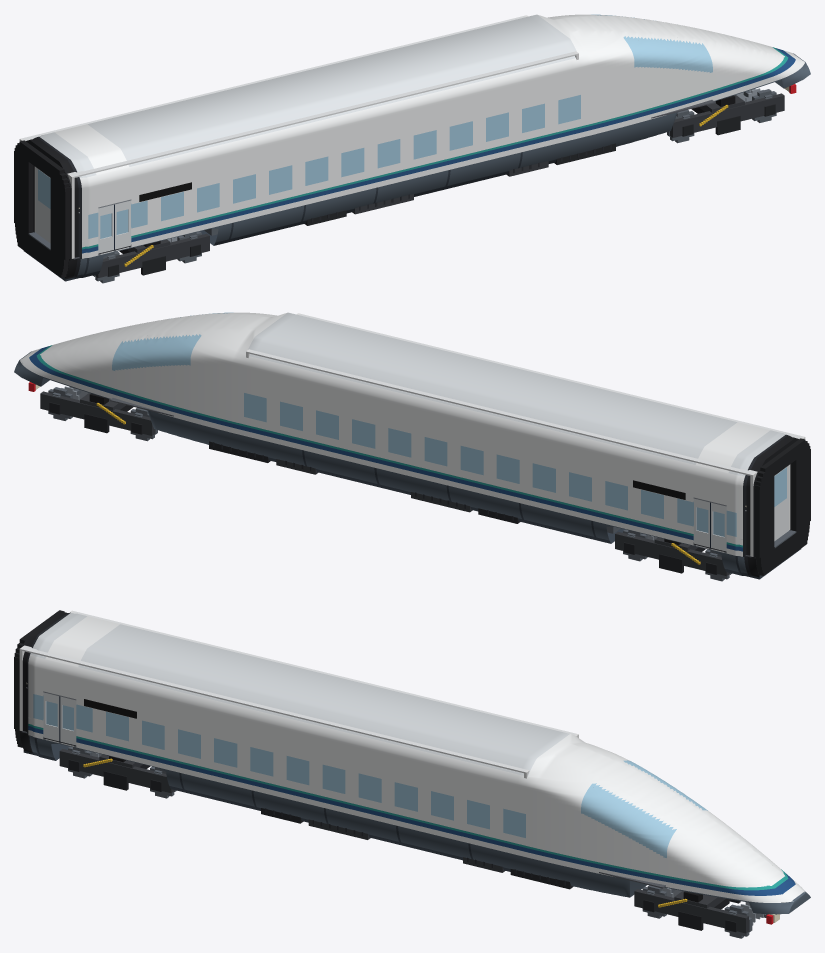
The model's file is ktx_sancheon_front.obj.
3 renders of one model, top to bottom at view 1: azimuth 30°, elevation 25°; view 2: azimuth 150°, elevation 25°; view 3: azimuth 330°, elevation 25°, orthographic.
Parts seen in each view (by area): view 1: SHELL, SHELL_diaphragm, SHELL_ceiling, BOGEY_FRONT, BOGEY_REAR, FRAME, CONNECTING_DOOR_1_CG_CR_TOGGLE_TL_0.98_Z, EXTERNAL_DOOR_3_CG_DR1_TOGGLE_TL_-0.44_X, EXTERNAL_DOOR_4_CG_DR1_TOGGLE_TL_0.44_X, SHELL_end; view 2: SHELL, SHELL_diaphragm, SHELL_ceiling, BOGEY_FRONT, BOGEY_REAR, FRAME, CONNECTING_DOOR_1_CG_CR_TOGGLE_TL_0.98_Z, EXTERNAL_DOOR_6_CG_DL1_TOGGLE_TL_-0.44_X, EXTERNAL_DOOR_7_CG_DL1_TOGGLE_TL_0.44_X, SHELL_end; view 3: SHELL, SHELL_ceiling, BOGEY_FRONT, BOGEY_REAR, FRAME, EXTERNAL_DOOR_3_CG_DR1_TOGGLE_TL_-0.44_X, EXTERNAL_DOOR_4_CG_DR1_TOGGLE_TL_0.44_X, SHELL_diaphragm.
Part boxes in pixels (box(x1,y1,x2,y2)): SHELL: box(23, 14, 810, 281); SHELL_diaphragm: box(14, 140, 69, 277); SHELL_ceiling: box(22, 16, 576, 177); BOGEY_FRONT: box(670, 93, 784, 137); BOGEY_REAR: box(95, 233, 209, 277); FRAME: box(98, 143, 615, 254); CONNECTING_DOOR_1_CG_CR_TOGGLE_TL_0.98_Z: box(36, 167, 50, 243); EXTERNAL_DOOR_3_CG_DR1_TOGGLE_TL_-0.44_X: box(98, 204, 114, 253); EXTERNAL_DOOR_4_CG_DR1_TOGGLE_TL_0.44_X: box(115, 200, 130, 249); SHELL_end: box(19, 138, 74, 258); SHELL: box(14, 312, 801, 579); SHELL_diaphragm: box(755, 438, 810, 575); SHELL_ceiling: box(248, 314, 802, 475); BOGEY_FRONT: box(40, 390, 154, 435); BOGEY_REAR: box(615, 531, 729, 575); FRAME: box(209, 441, 726, 552); CONNECTING_DOOR_1_CG_CR_TOGGLE_TL_0.98_Z: box(774, 465, 788, 541); EXTERNAL_DOOR_6_CG_DL1_TOGGLE_TL_-0.44_X: box(710, 502, 726, 551); EXTERNAL_DOOR_7_CG_DL1_TOGGLE_TL_0.44_X: box(694, 498, 709, 547); SHELL_end: box(750, 436, 805, 556); SHELL: box(18, 611, 810, 914); SHELL_ceiling: box(21, 611, 575, 773); BOGEY_FRONT: box(634, 889, 748, 933); BOGEY_REAR: box(59, 749, 174, 793); FRAME: box(43, 737, 572, 889); EXTERNAL_DOOR_3_CG_DR1_TOGGLE_TL_-0.44_X: box(43, 692, 60, 741); EXTERNAL_DOOR_4_CG_DR1_TOGGLE_TL_0.44_X: box(60, 696, 76, 745); SHELL_diaphragm: box(14, 610, 64, 747).
Bounding box in the file's own units: 23.16 × 3.85 × 2.92.
Materials: 1 (1 with a texture image).
